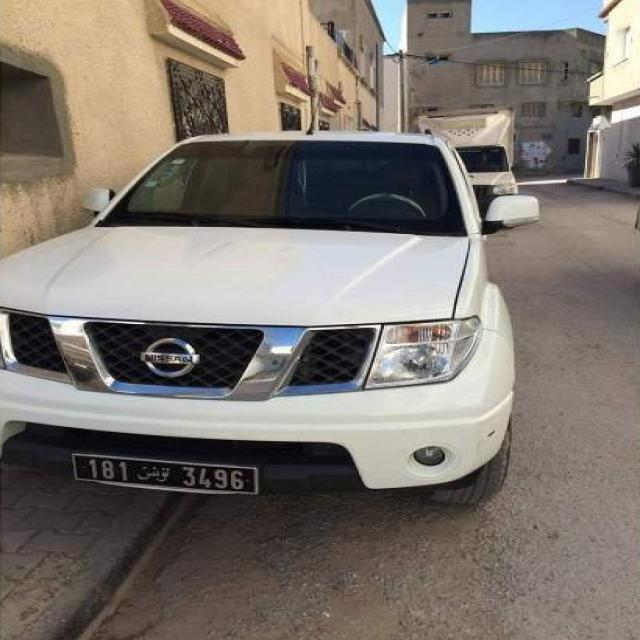licence plate: (74, 455, 259, 500)
